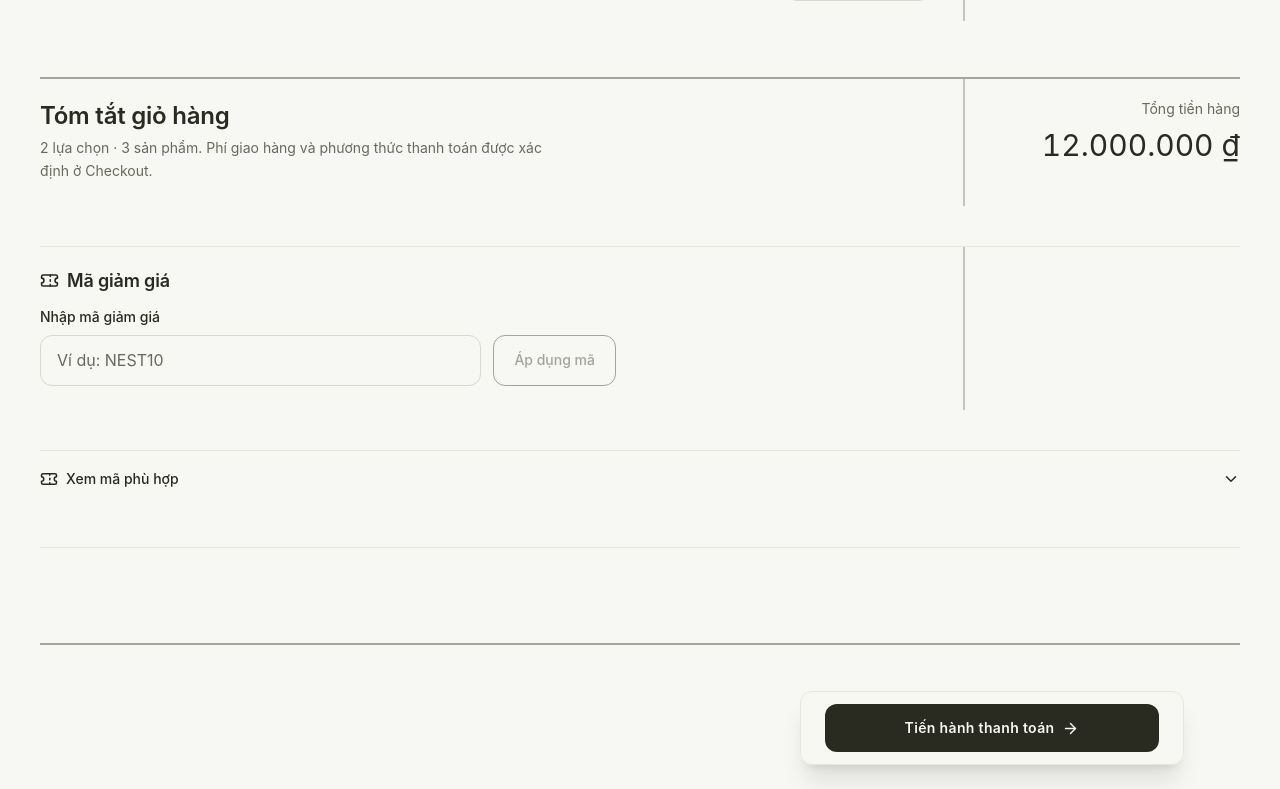
it: CartPage › clears a stale voucher preview after a successful removal
The width and height of the screenshot is (1280, 789).
(page scrolled)
Step 1. Click the heading "Xem mã phù hợp" → click(122, 479), box x1=40 y1=470 x2=1240 y2=488
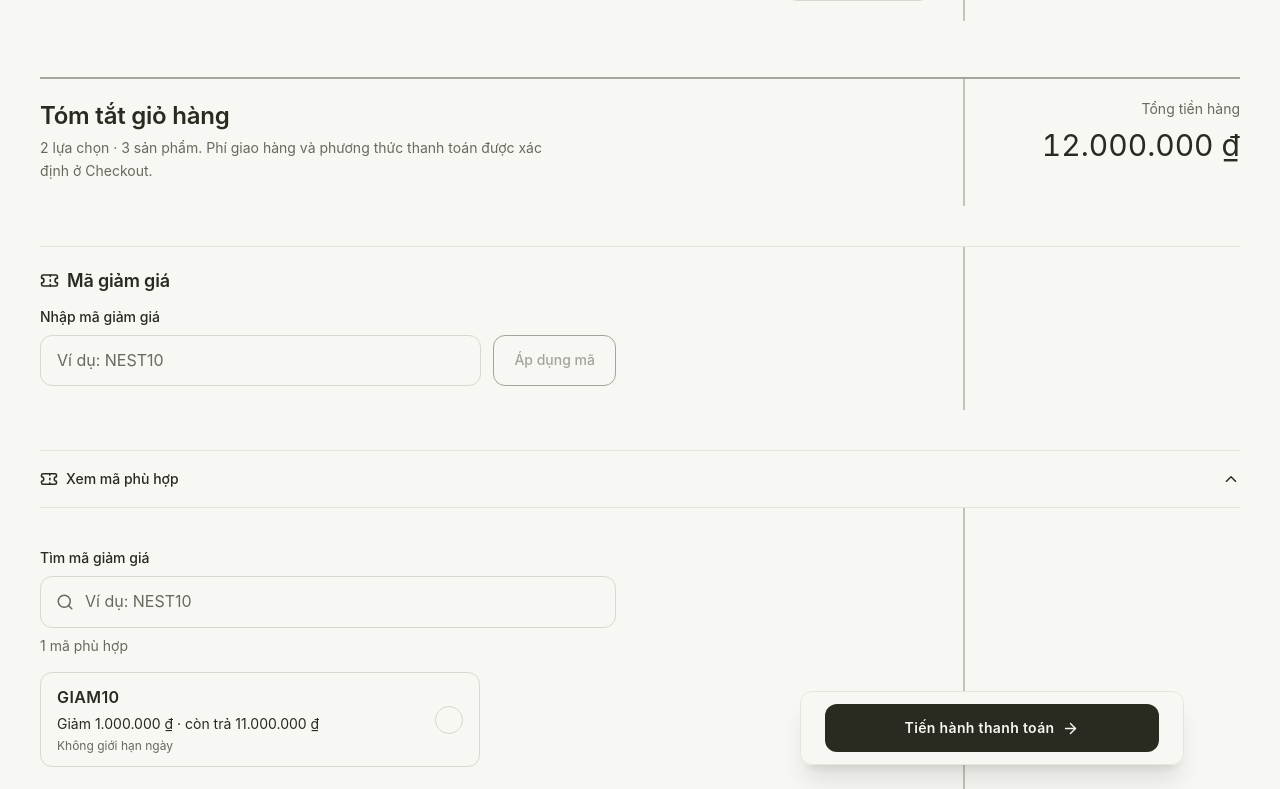
Step 2. Click the radio button labelled "GIAM10" → click(260, 720), box x1=40 y1=672 x2=480 y2=768
(page scrolled)
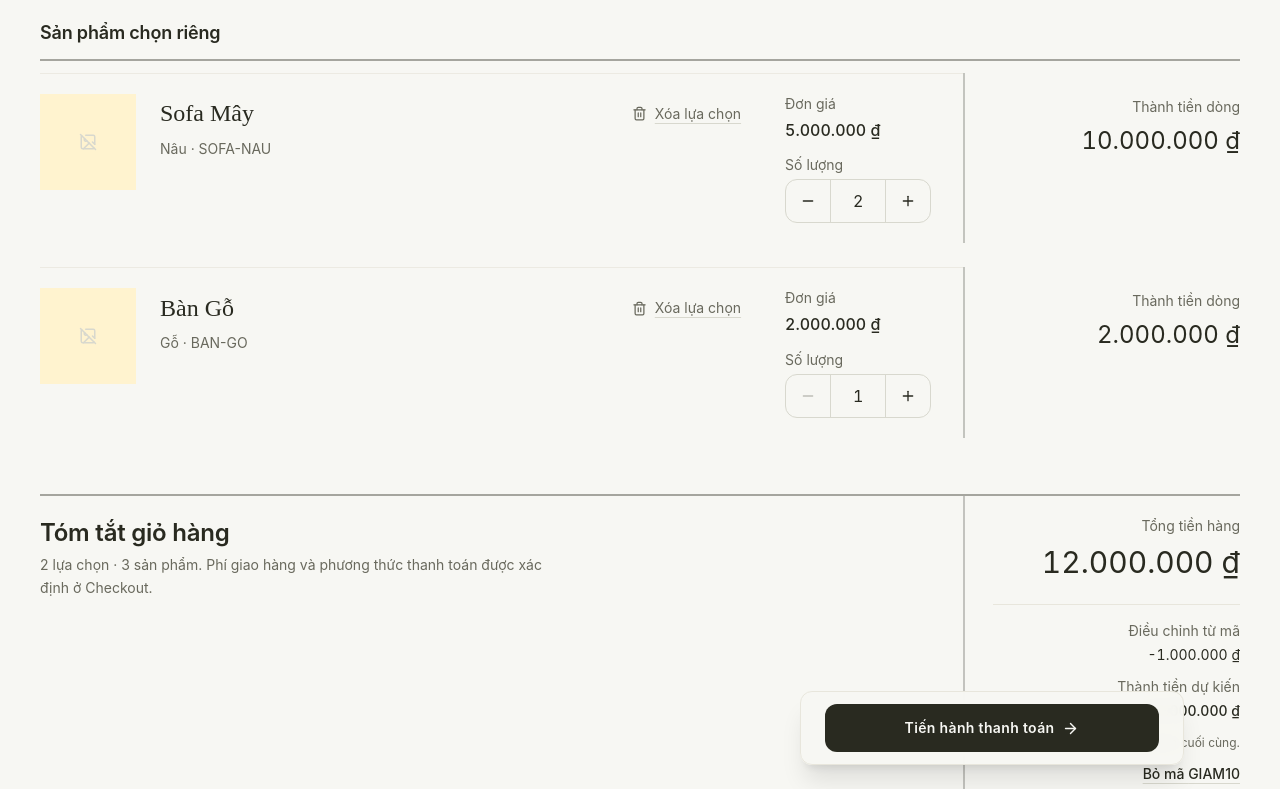
Expected: the text "11.000.000 ₫" is shown, x1=1148 y1=701 x2=1240 y2=721
Step 3. Click the button with aria-label "Xóa Bàn Gỗ" → click(686, 308), box x1=628 y1=288 x2=745 y2=328
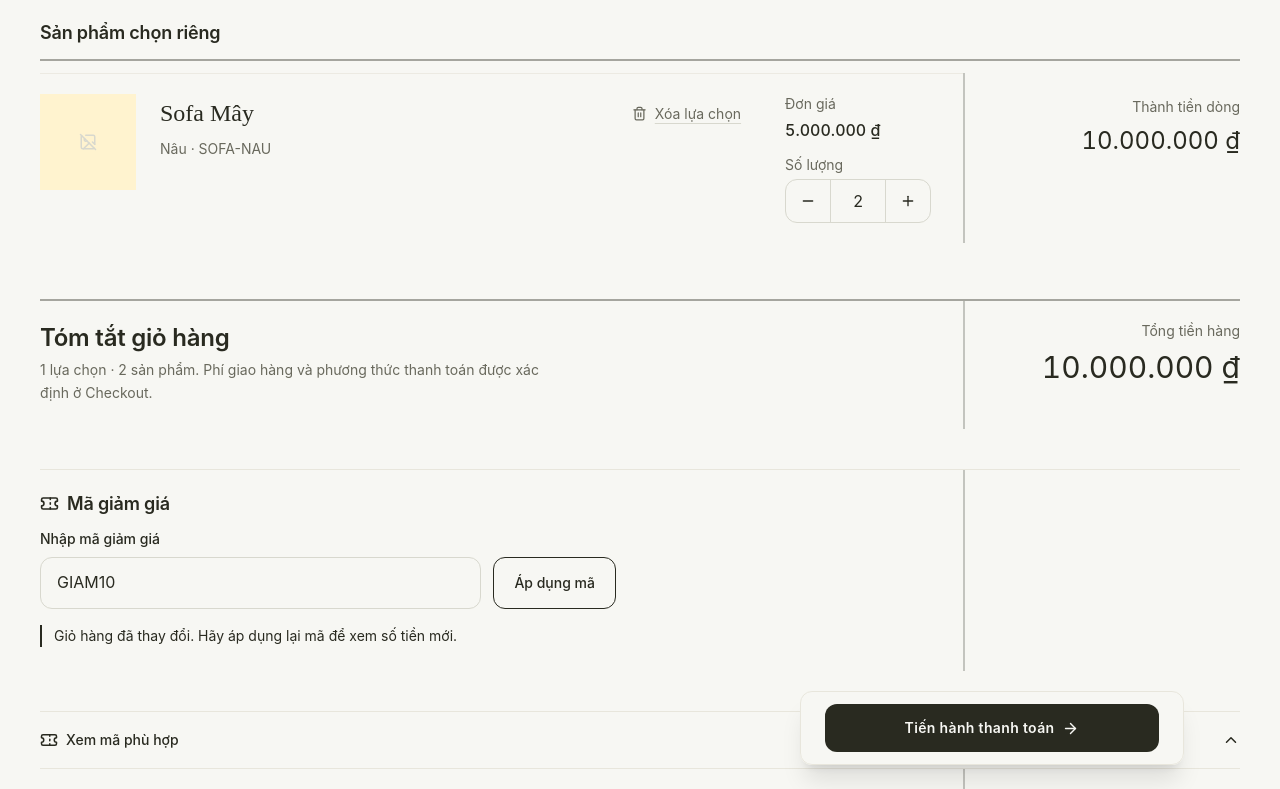
Expected: the text "11.000.000 ₫" is not shown
Expected: the message shows "Giỏ hàng đã thay đổi", x1=54 y1=627 x2=457 y2=644
